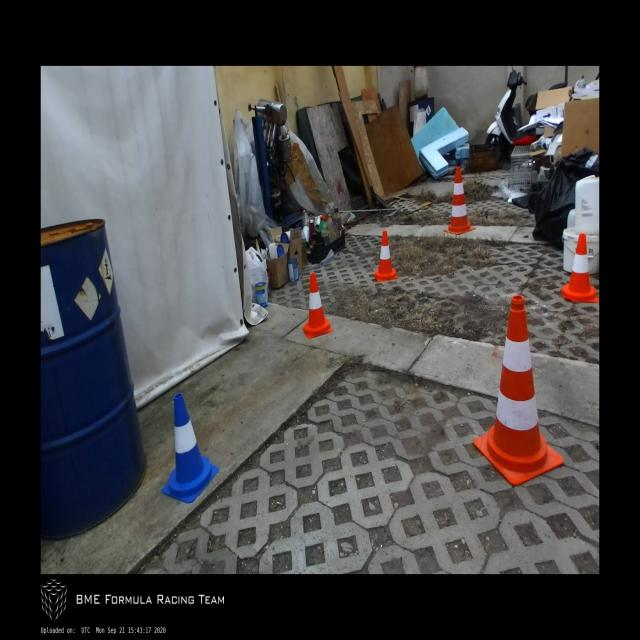blue_cone: (162, 393, 219, 503)
large_orange_cone: (473, 296, 564, 486), (444, 166, 476, 235)
orange_cone: (560, 233, 599, 303), (302, 273, 332, 339), (373, 230, 398, 282)
